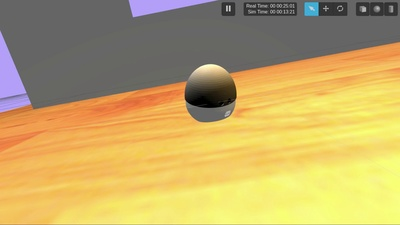mira_robot: (185, 64, 237, 122)
